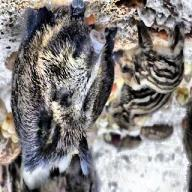boar: (9, 1, 117, 188)
